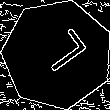L_SW: (28, 27, 87, 82)
